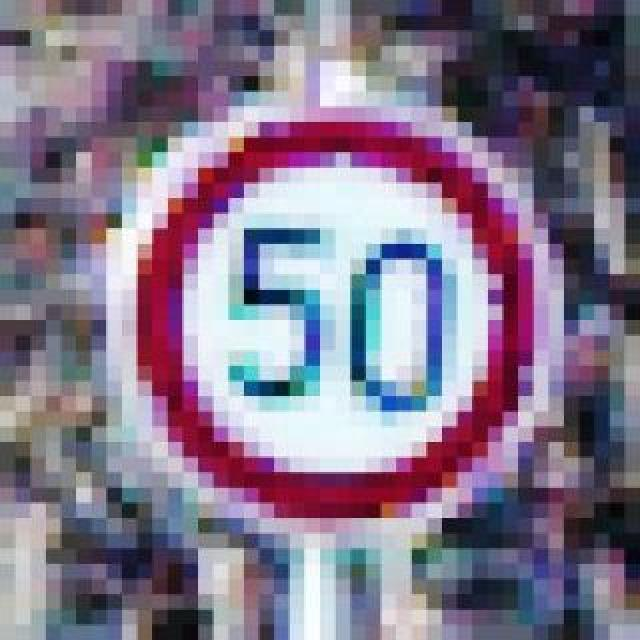50 kph: (92, 76, 548, 548)
